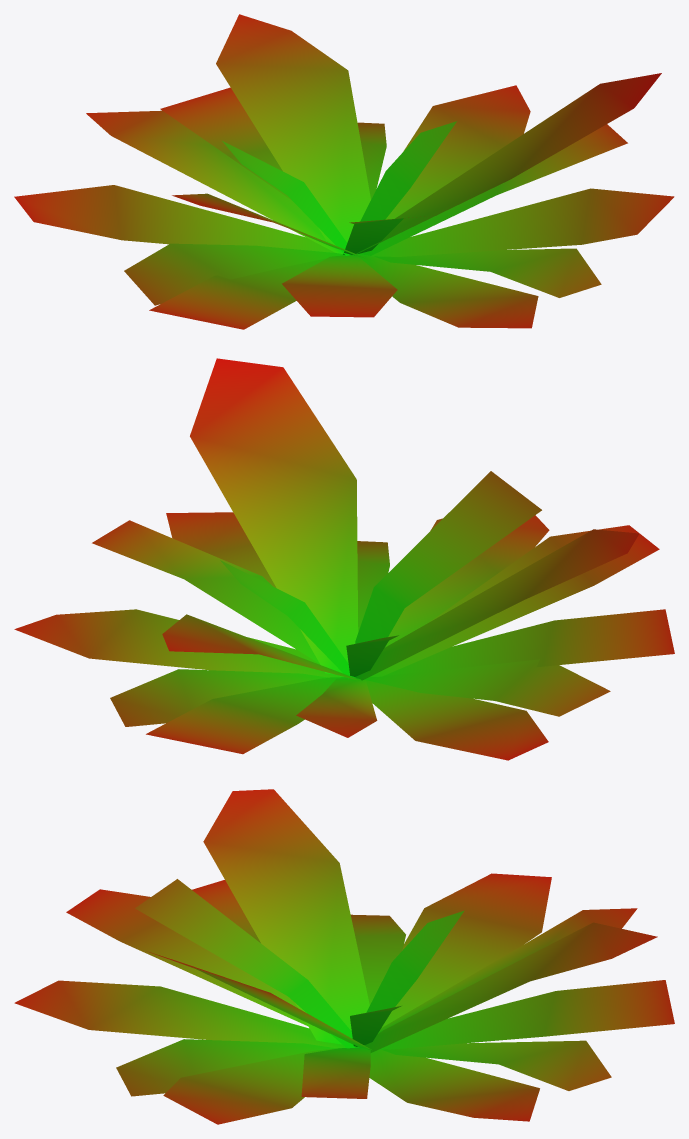
Rendered from Var25_LOD2.fbx.
The picture shows the model from 3 angles, top to bottom: view 1: azimuth 30°, elevation 25°; view 2: azimuth 150°, elevation 25°; view 3: azimuth 270°, elevation 25°; orthographic projection. The views are drawn at different scales.
Parts seen in each view (by area): view 1: _m6fv_Var25_LOD2; view 2: _m6fv_Var25_LOD2; view 3: _m6fv_Var25_LOD2.
Part boxes in pixels (x1,y1,x2,y2): _m6fv_Var25_LOD2: [14, 14, 674, 329]; _m6fv_Var25_LOD2: [14, 358, 674, 760]; _m6fv_Var25_LOD2: [14, 789, 674, 1124].
Size of the model in its own units: 14.92 by 5.51 by 16.44.
